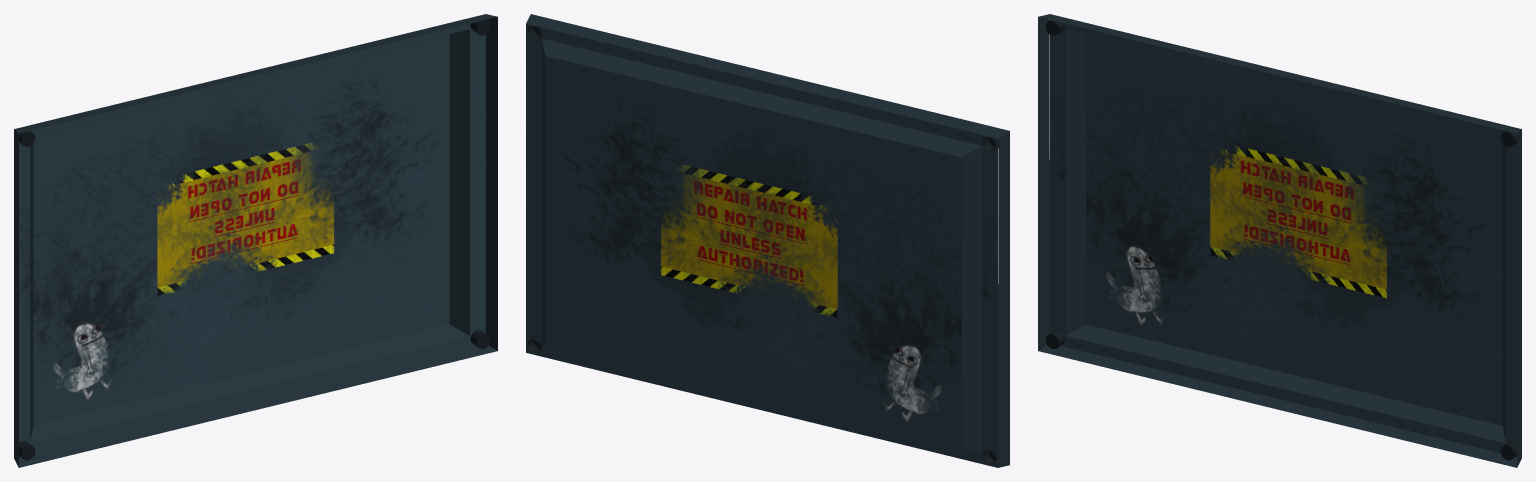
The model's file is safe_deposit_box_backside_protectivePanel.fbx.
The picture shows the model from 3 angles, left to right: view 1: azimuth 30°, elevation 25°; view 2: azimuth 150°, elevation 25°; view 3: azimuth 330°, elevation 25°; orthographic projection.
Parts seen in each view (by area): view 1: Backside_ProtectivePanel; view 2: Backside_ProtectivePanel; view 3: Backside_ProtectivePanel.
Part boxes in pixels (x1=…): Backside_ProtectivePanel: x1=14, y1=14, x2=497, y2=467; Backside_ProtectivePanel: x1=526, y1=14, x2=1009, y2=467; Backside_ProtectivePanel: x1=1038, y1=14, x2=1521, y2=467.
Bounding box in the file's own units: 136 × 90.73 × 8.29.
